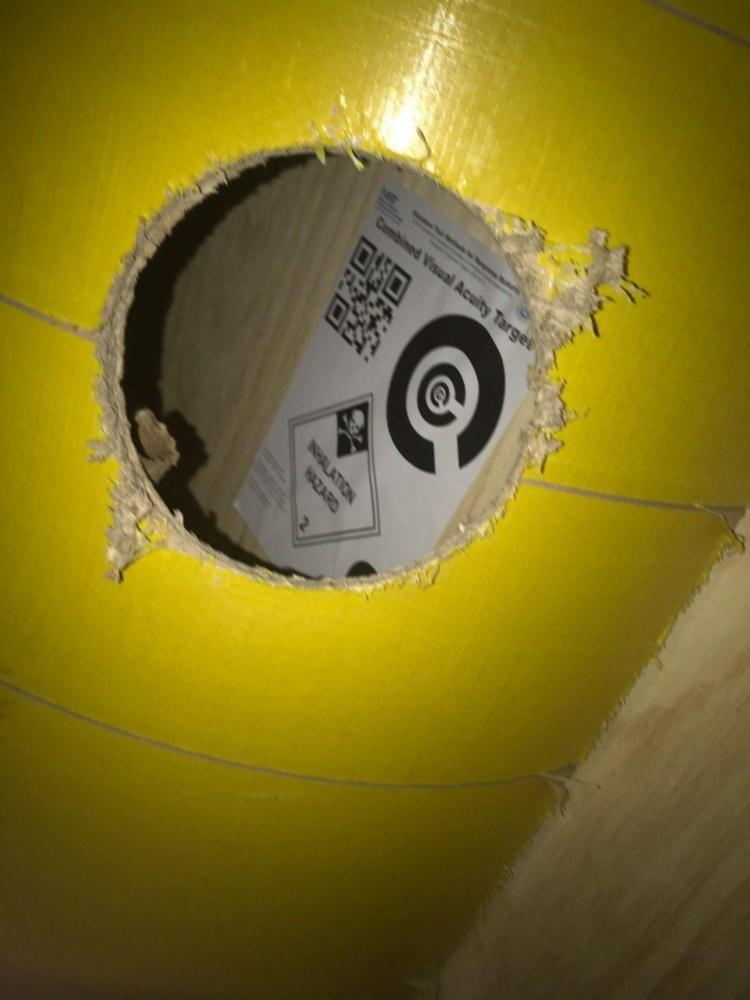poison: (286, 393, 384, 548)
